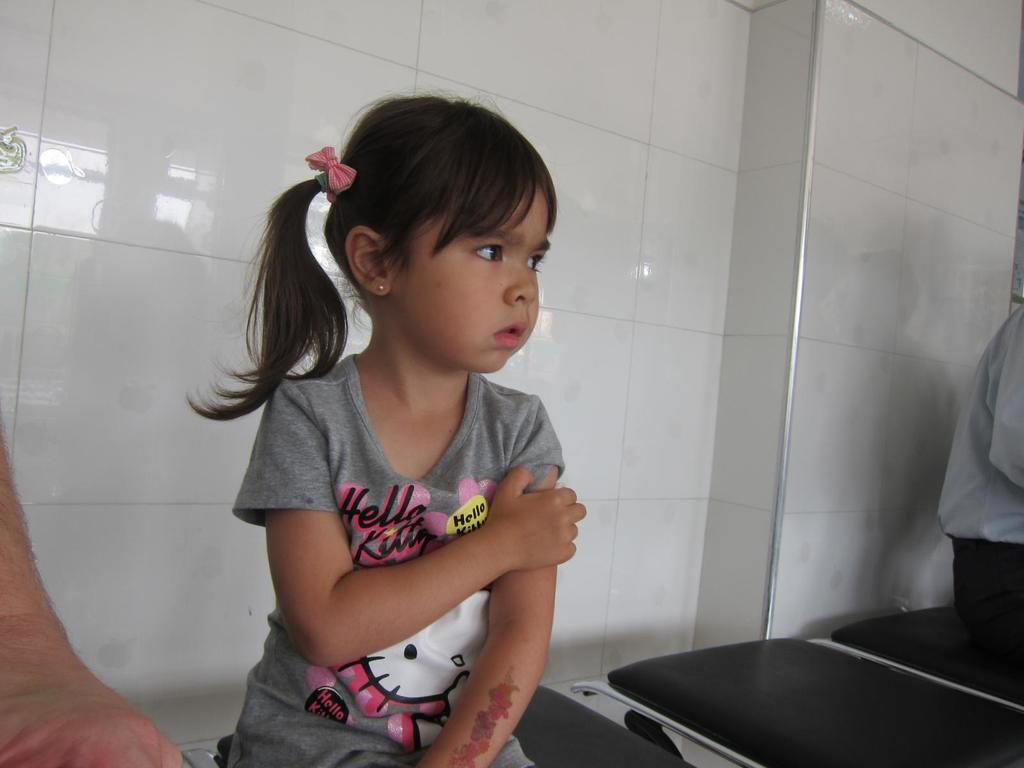Human_hand: (484, 468, 573, 581)
